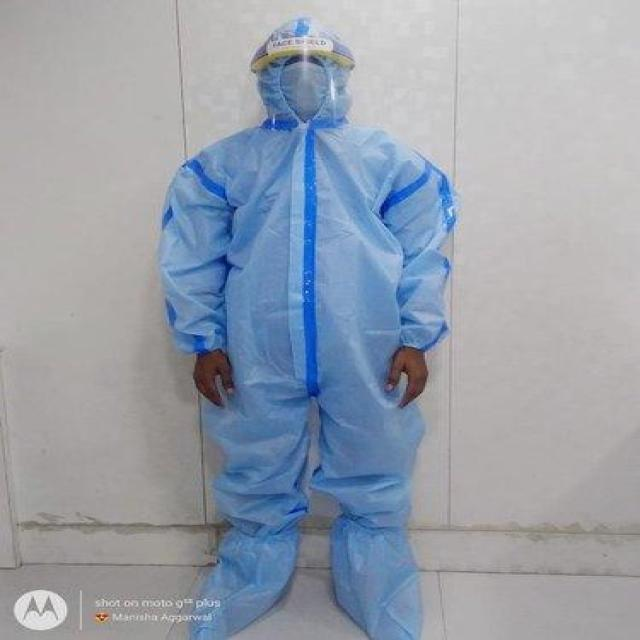Coverall: (60, 5, 546, 640)
Mask: (273, 62, 340, 126)
